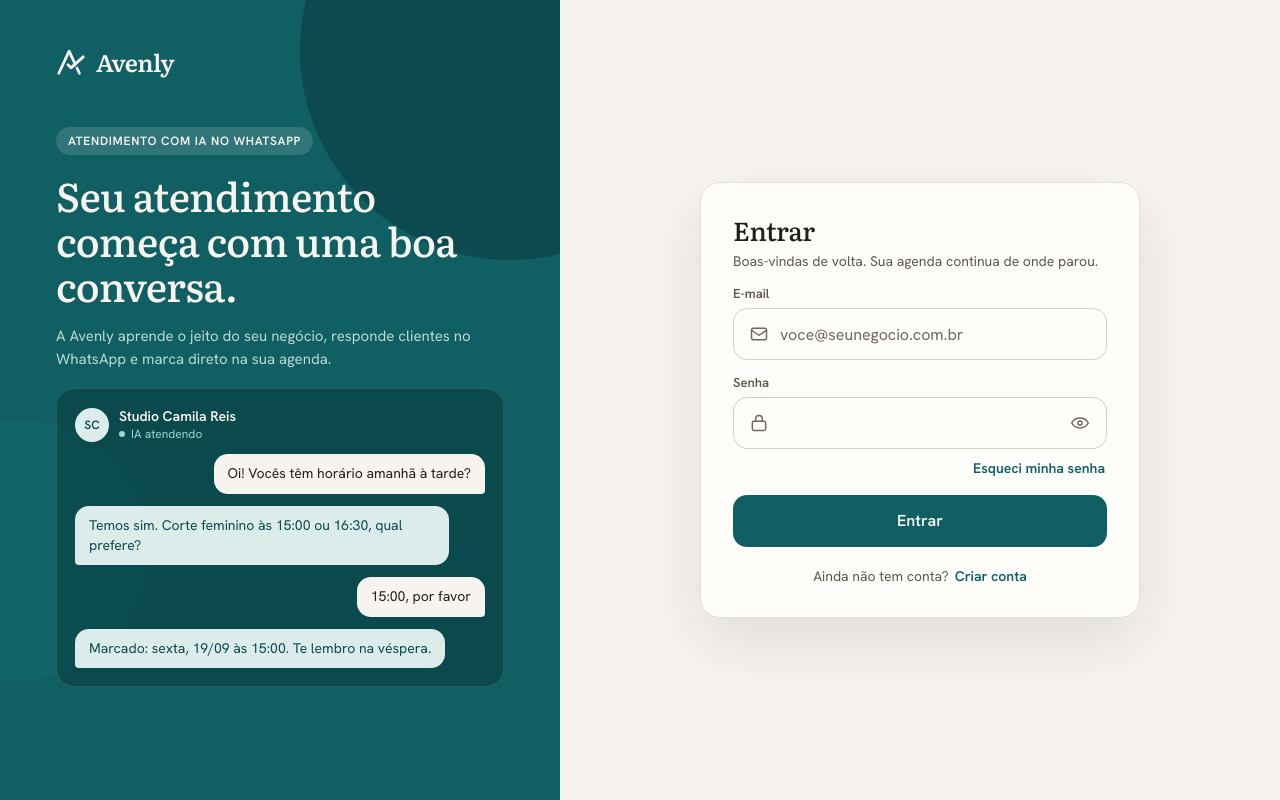
Test: L2 — 401 do login no campo Senha › validação local do login não destaca 'Esqueci minha senha'
What coordinates should you click on to do the following:
click the button "Entrar"
I would click on:
 (920, 521)
Its box is [733, 495, 1107, 547].
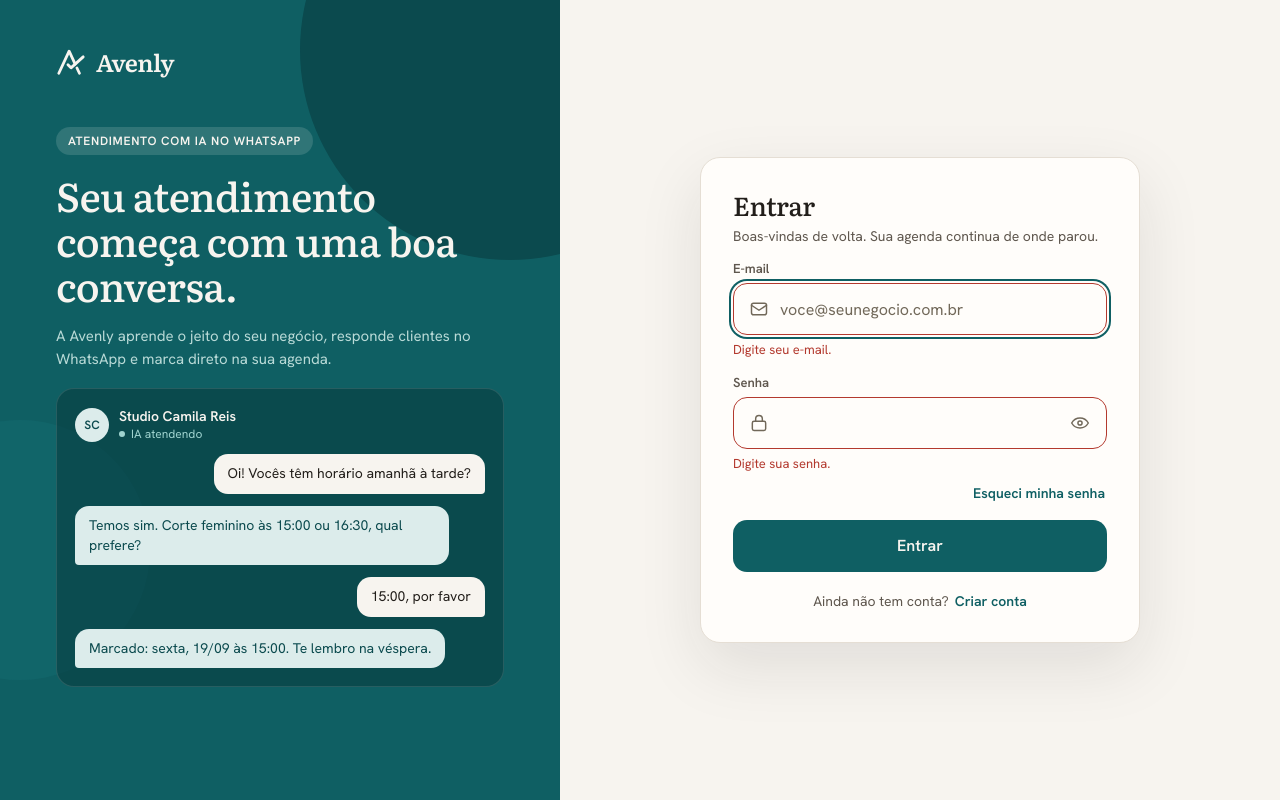
Expected: the text "Digite sua senha." is shown, [733, 455, 830, 472]
